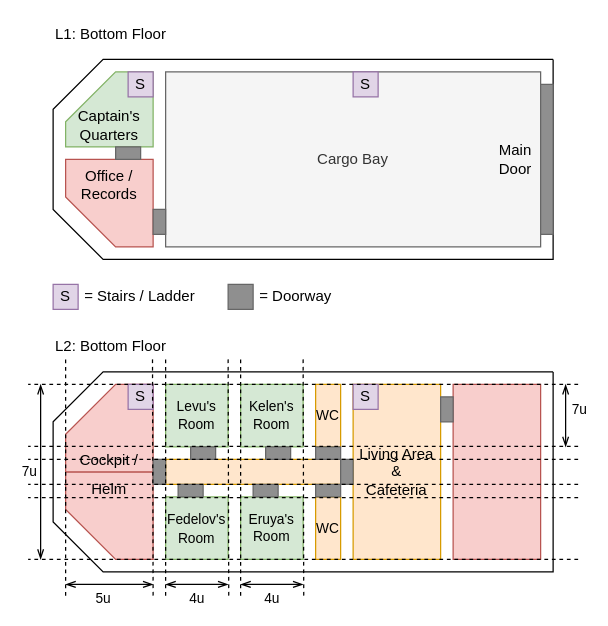
Some shapes in this 608 by 626 pixel diagram are drawn without their labels. The centre of each missing label's shape, as x and y in pixels:
"Engine Room / Maint." belongs at (x=496, y=471).
"Hall" belongs at (x=252, y=471).
